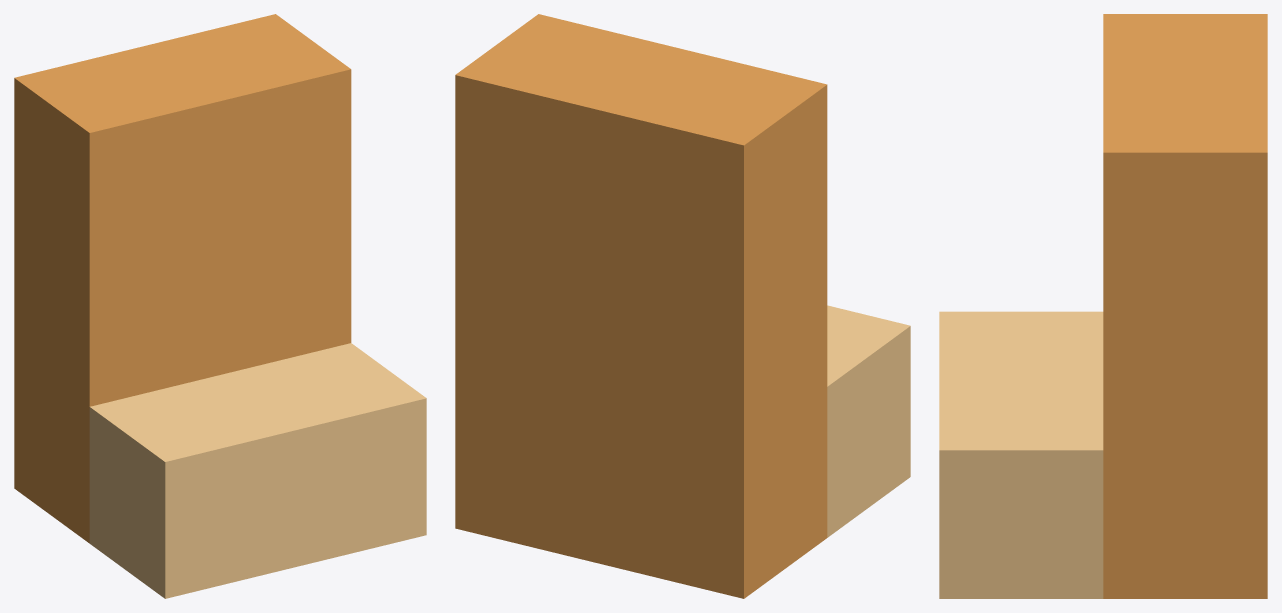
The model's file is CatPawBR.obj.
3 renders of one model, left to right at view 1: azimuth 30°, elevation 25°; view 2: azimuth 150°, elevation 25°; view 3: azimuth 270°, elevation 25°, orthographic. The views are drawn at different scales.
Bounding box in the file's own units: 0.2 × 0.3 × 0.2.
Materials: 1 (1 with a texture image).
